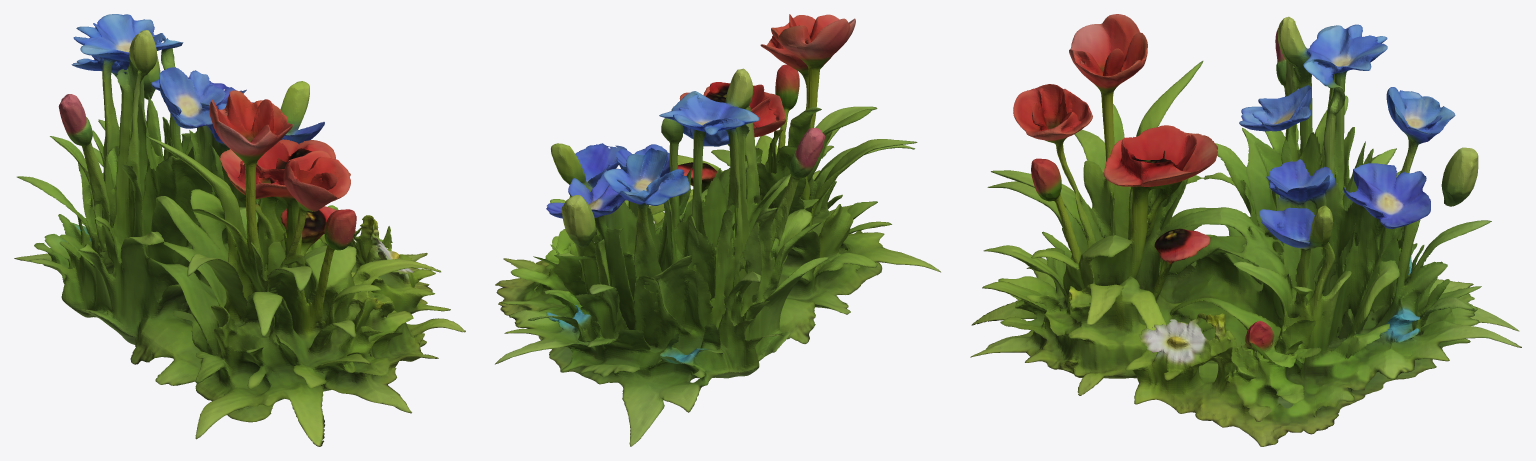
Rendered from scatter_flowers.glb.
3 views of the same model, side by side, from view 1: azimuth 30°, elevation 25°; view 2: azimuth 150°, elevation 25°; view 3: azimuth 270°, elevation 25° (orthographic). The views are drawn at different scales.
Parts seen in each view (by area): view 1: world; view 2: world; view 3: world.
Boxes of the visible parts, bbox=[...] form: world: bbox=[14, 14, 465, 446]; world: bbox=[495, 14, 940, 446]; world: bbox=[970, 14, 1521, 446].
Bounding box in the file's own units: 0.7367 × 0.6331 × 0.9953.
